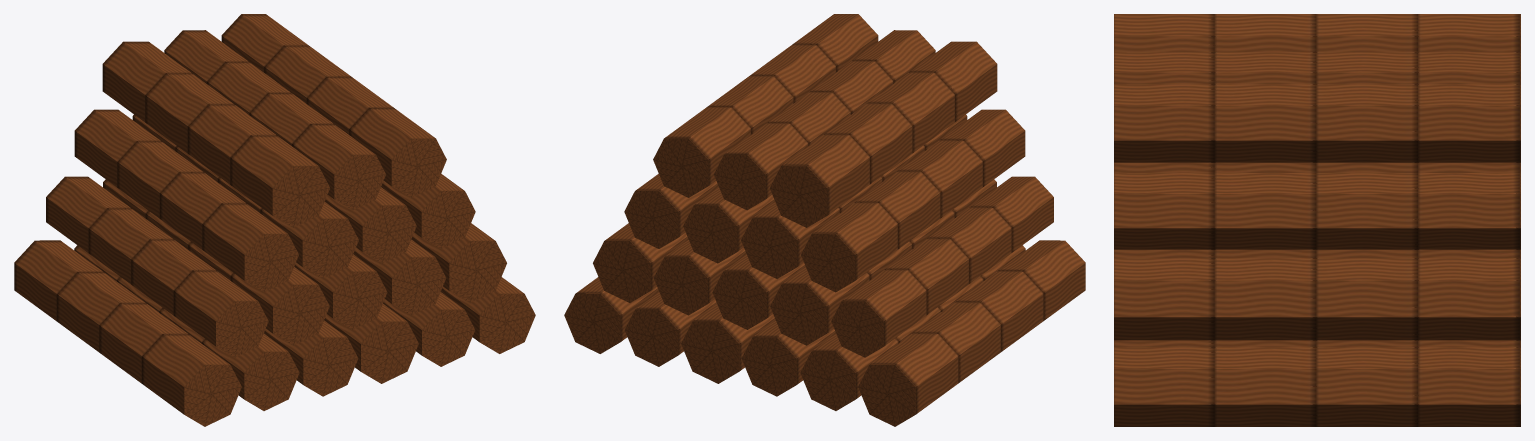
File: andean-terraces-and-stone-village-firewood-stack-6ab1832b__38276.glb
3 renders of one model, left to right at view 1: azimuth 30°, elevation 25°; view 2: azimuth 150°, elevation 25°; view 3: azimuth 270°, elevation 25°, orthographic. The views are drawn at different scales.
Visible parts, largest first — view 1: firewood-stack-timber; view 2: firewood-stack-timber; view 3: firewood-stack-timber.
Boxes of the visible parts, bbox=[...] form: firewood-stack-timber: bbox=[14, 14, 535, 426]; firewood-stack-timber: bbox=[564, 14, 1085, 426]; firewood-stack-timber: bbox=[1114, 14, 1520, 426].
Bounding box in the file's own units: 1.43 × 0.9318 × 1.2.
1 material, 1 textured.
